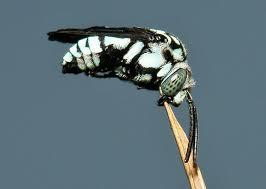Thyreus: (48, 16, 212, 171)
